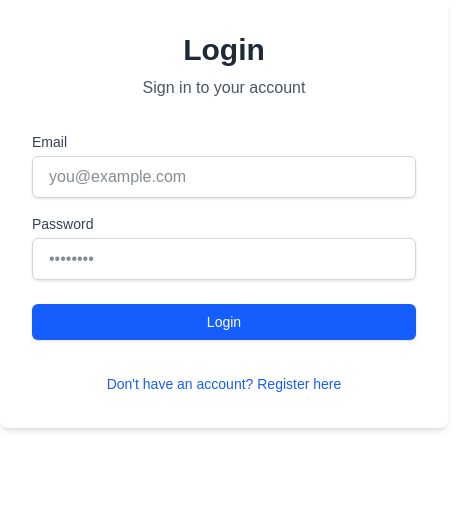
Scenario: LoginForm › shows error message when login fails
Type "test@example.com" into the field labelled "Email" at {"x": 224, "y": 177}, box [32,156,416,198]
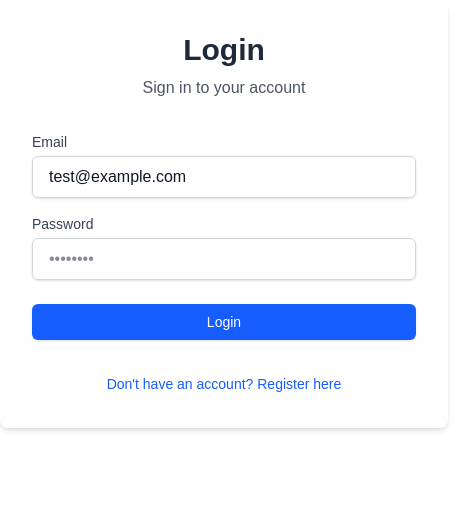
Type "password123" into the password field labelled "Password" at {"x": 224, "y": 259}, box [32,238,416,280]
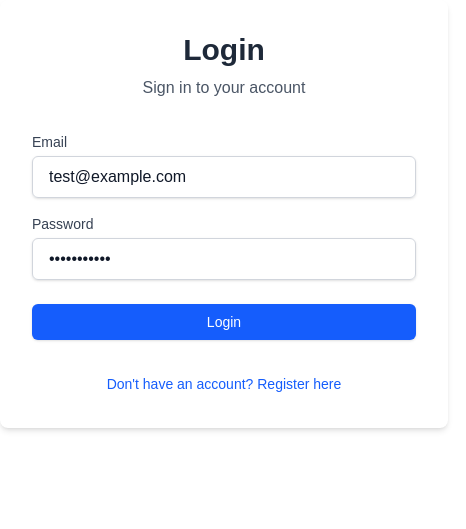
Click the button "Login" at {"x": 224, "y": 322}, box [32,304,416,340]
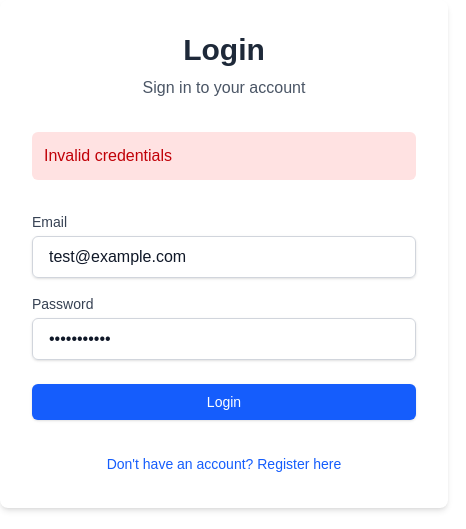
Expected: the text "Invalid credentials" is shown, [32,132,416,180]
